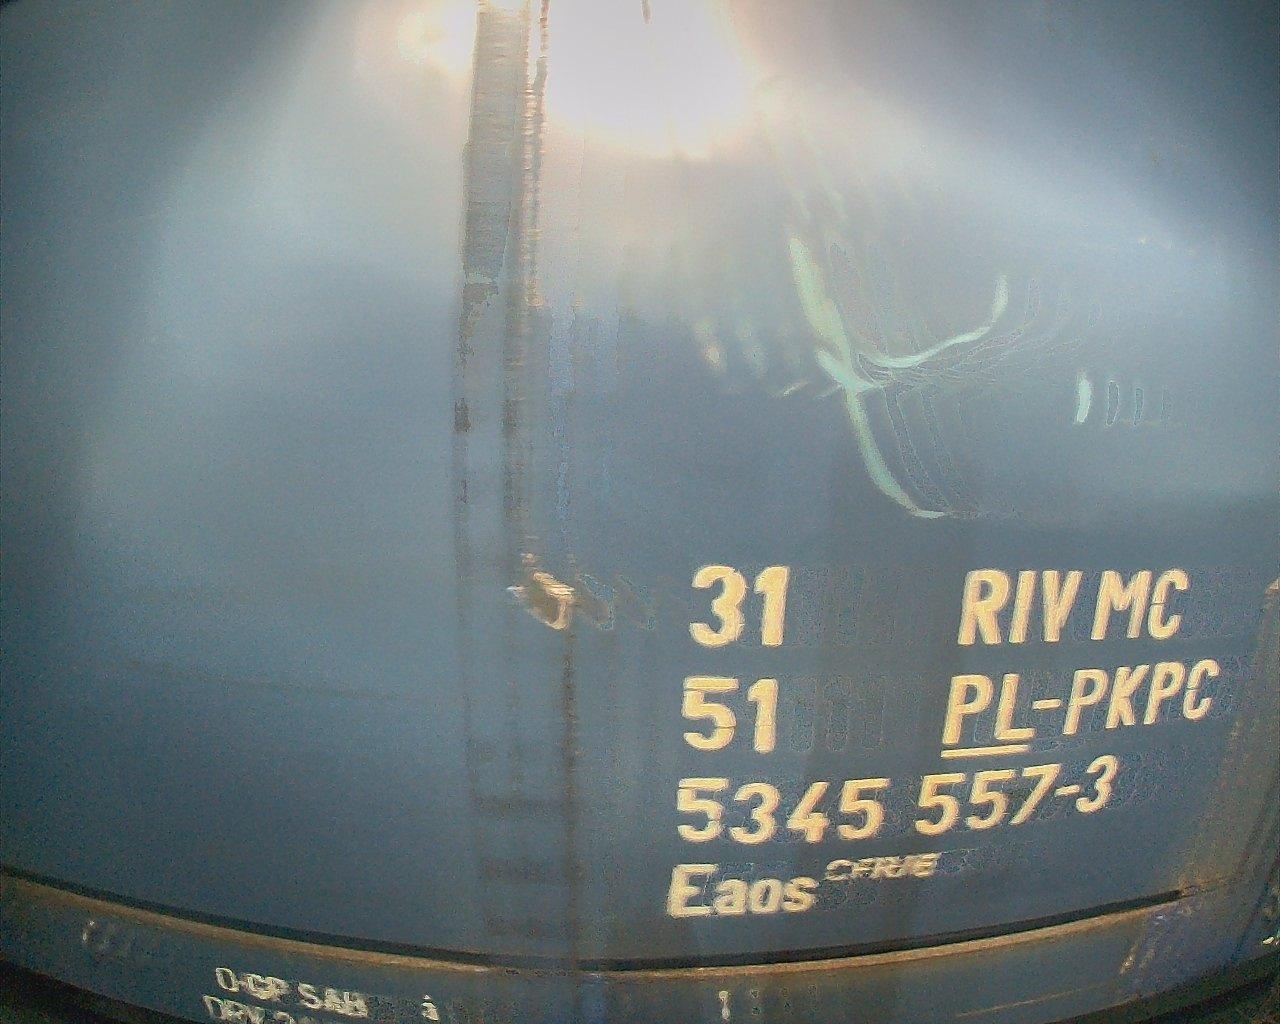UIC: (662, 559, 1218, 922)
